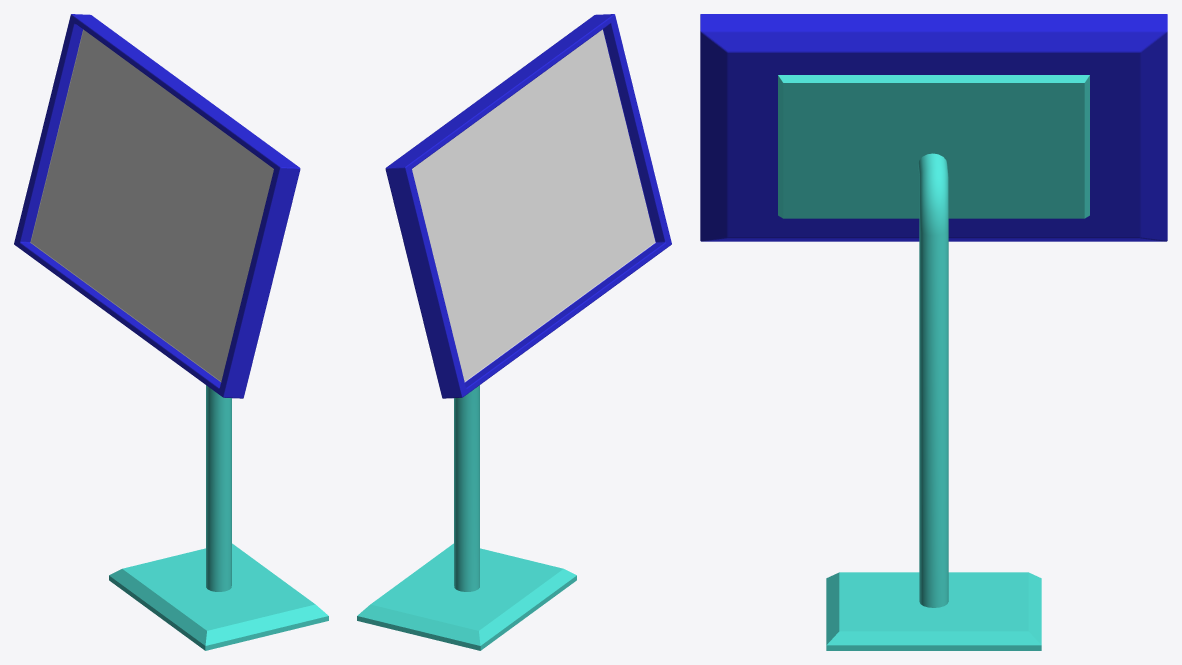
Rendered from SM_RH_Screen_01.fbx.
3 views of the same model, side by side, from view 1: azimuth 30°, elevation 25°; view 2: azimuth 150°, elevation 25°; view 3: azimuth 270°, elevation 25° (orthographic). The views are drawn at different scales.
Parts seen in each view (by area): view 1: Plane.005; view 2: Plane.005; view 3: Plane.005.
Boxes of the visible parts, bbox=[...] form: Plane.005: bbox=[14, 14, 328, 650]; Plane.005: bbox=[357, 14, 671, 650]; Plane.005: bbox=[700, 14, 1167, 650].
Bounding box in the file's own units: 42.15 × 129 × 94.53.
